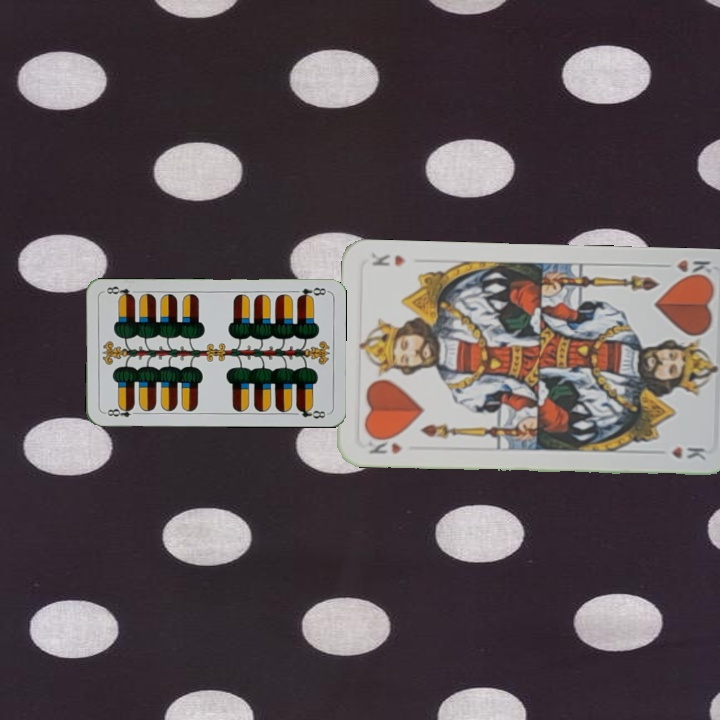E8: (100, 402, 141, 420), (293, 283, 330, 302)
HK: (656, 255, 715, 282), (364, 432, 405, 457)
